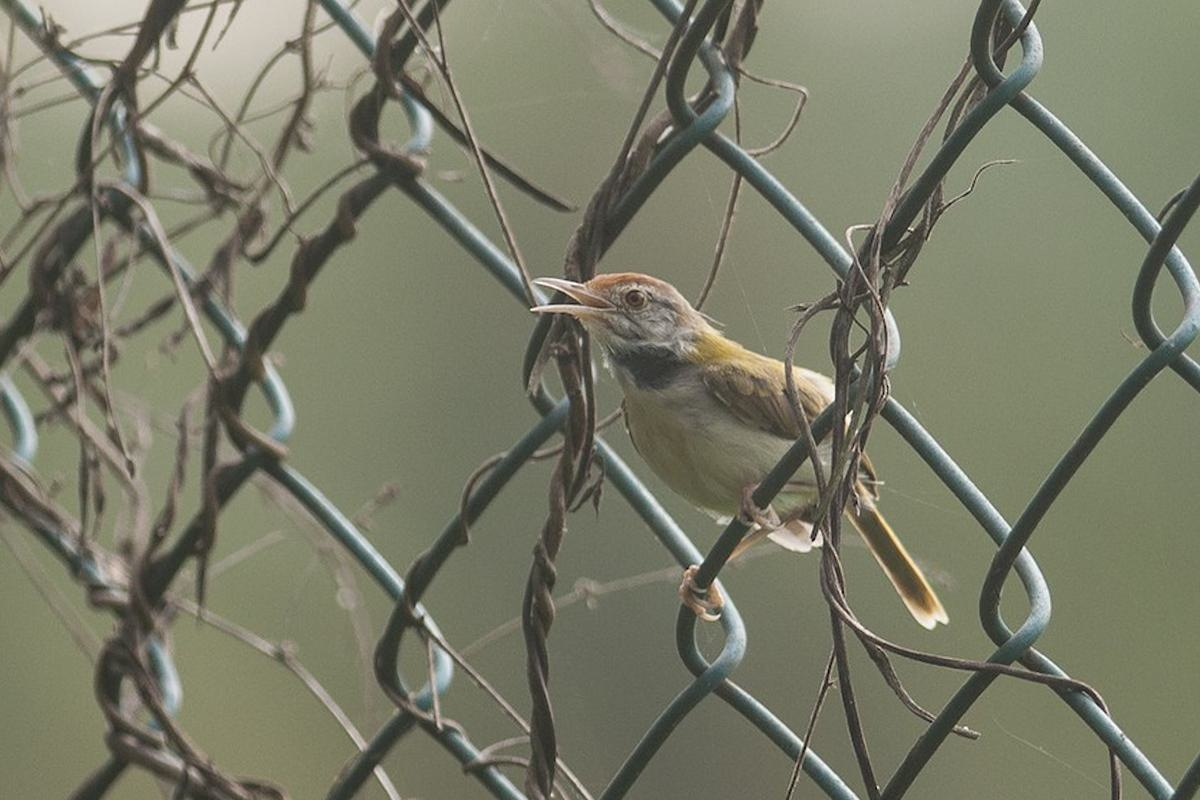tailorbird: (530, 278, 1019, 651)
